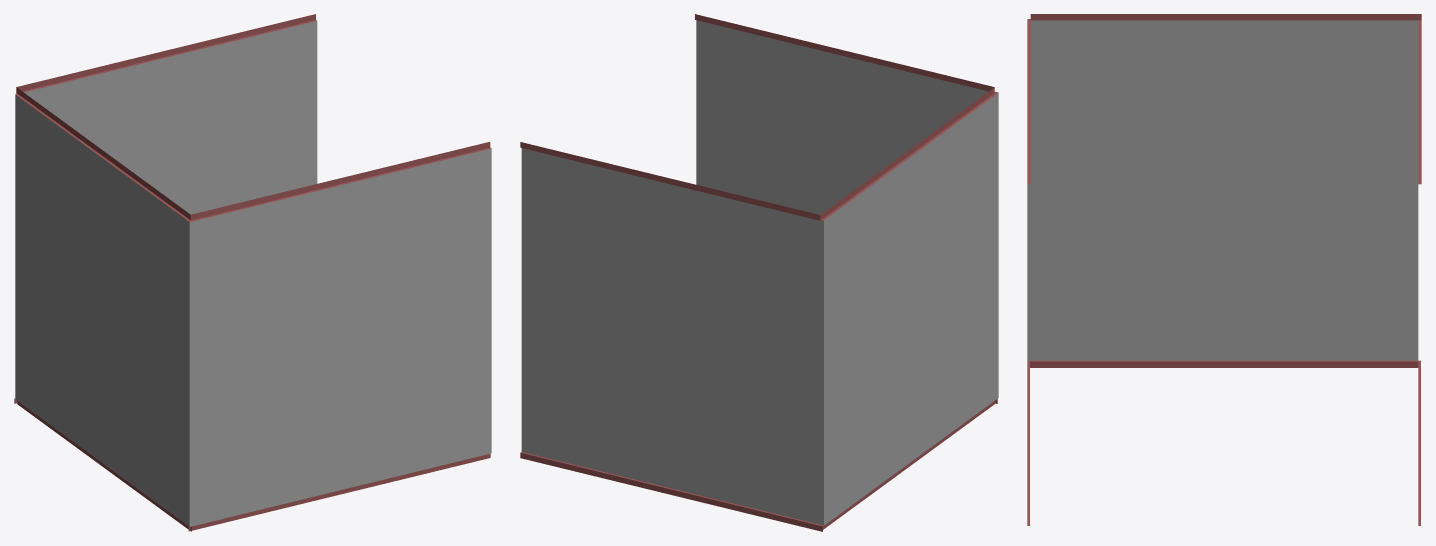
The model's file is Prop_WallInt3x3_Cube_01.fbx.
The picture shows the model from 3 angles, left to right: view 1: azimuth 30°, elevation 25°; view 2: azimuth 150°, elevation 25°; view 3: azimuth 270°, elevation 25°; orthographic projection. The views are drawn at different scales.
Parts seen in each view (by area): view 1: Prop_WallInt3x3_Cube_01; view 2: Prop_WallInt3x3_Cube_01; view 3: Prop_WallInt3x3_Cube_01.
Boxes of the visible parts, x1,y1,x2,y2 form: Prop_WallInt3x3_Cube_01: (14, 14, 491, 531); Prop_WallInt3x3_Cube_01: (520, 14, 998, 531); Prop_WallInt3x3_Cube_01: (1027, 14, 1421, 525).
Bounding box in the file's own units: 300 × 300 × 302.
